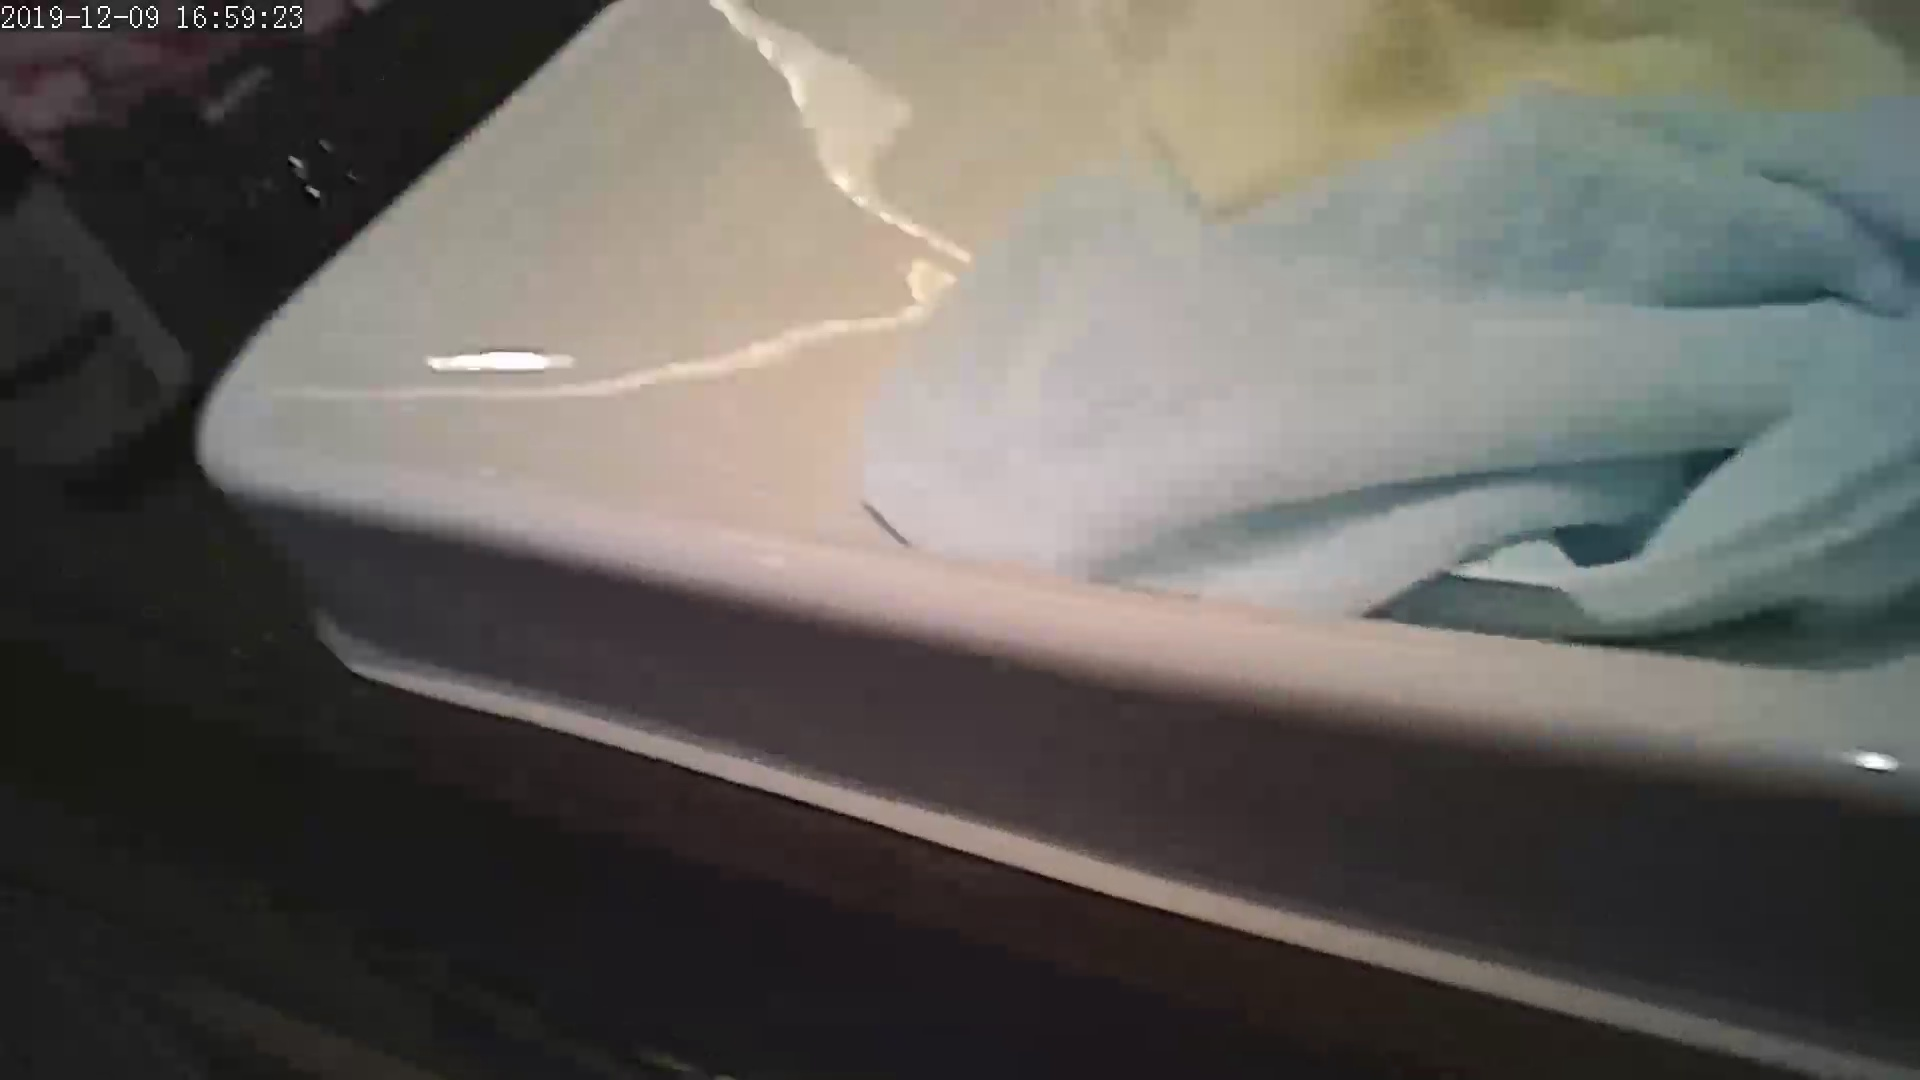bluecloth: (1001, 117, 1905, 653)
sink: (186, 28, 1853, 1010)
